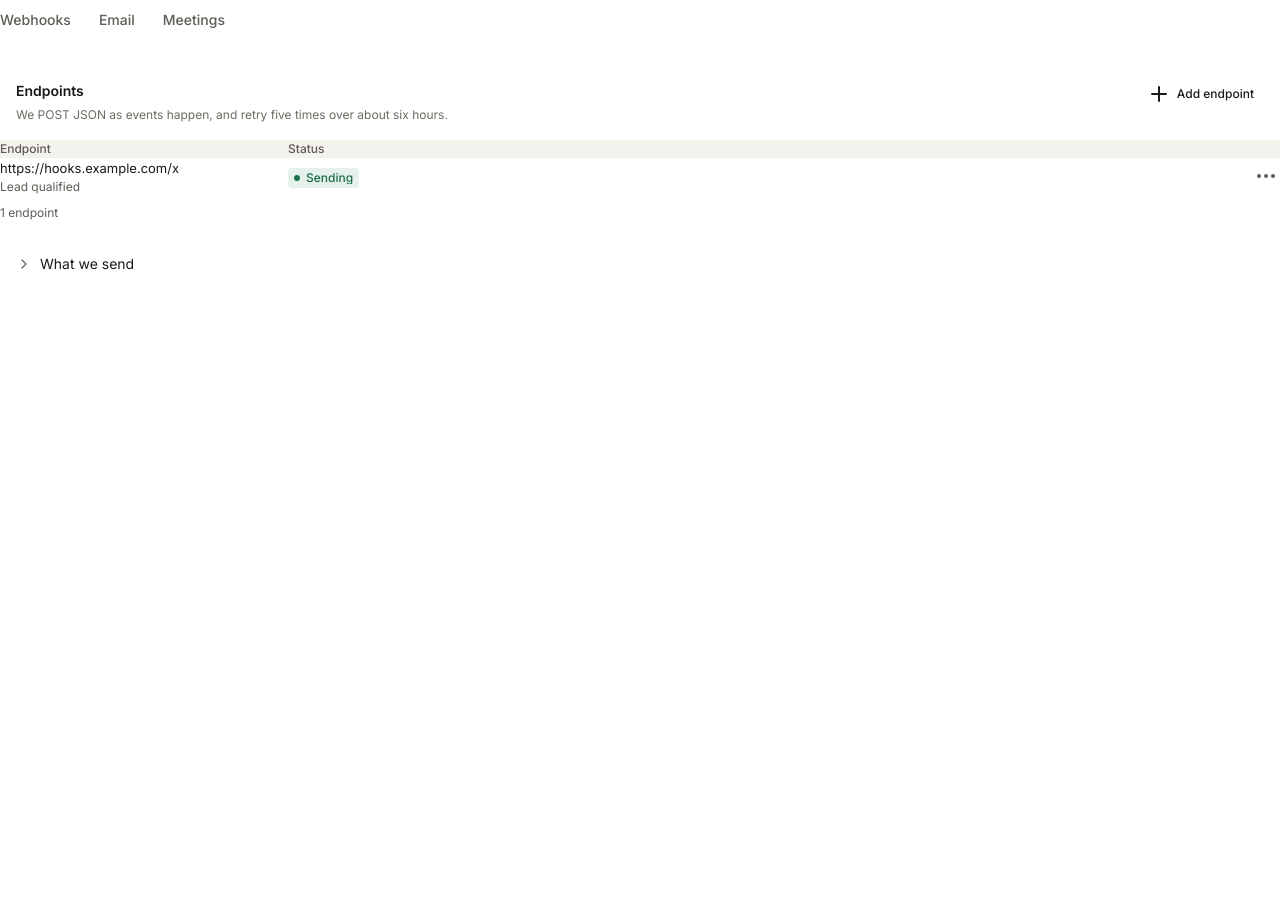
Test: IntegrationsPage — webhooks › will not register an endpoint we cannot reach
Expected: the text "https://hooks.example.com/x" is shown, [0, 160, 179, 176]
Click the button "Add endpoint" at (1200, 94), box [1137, 80, 1264, 108]
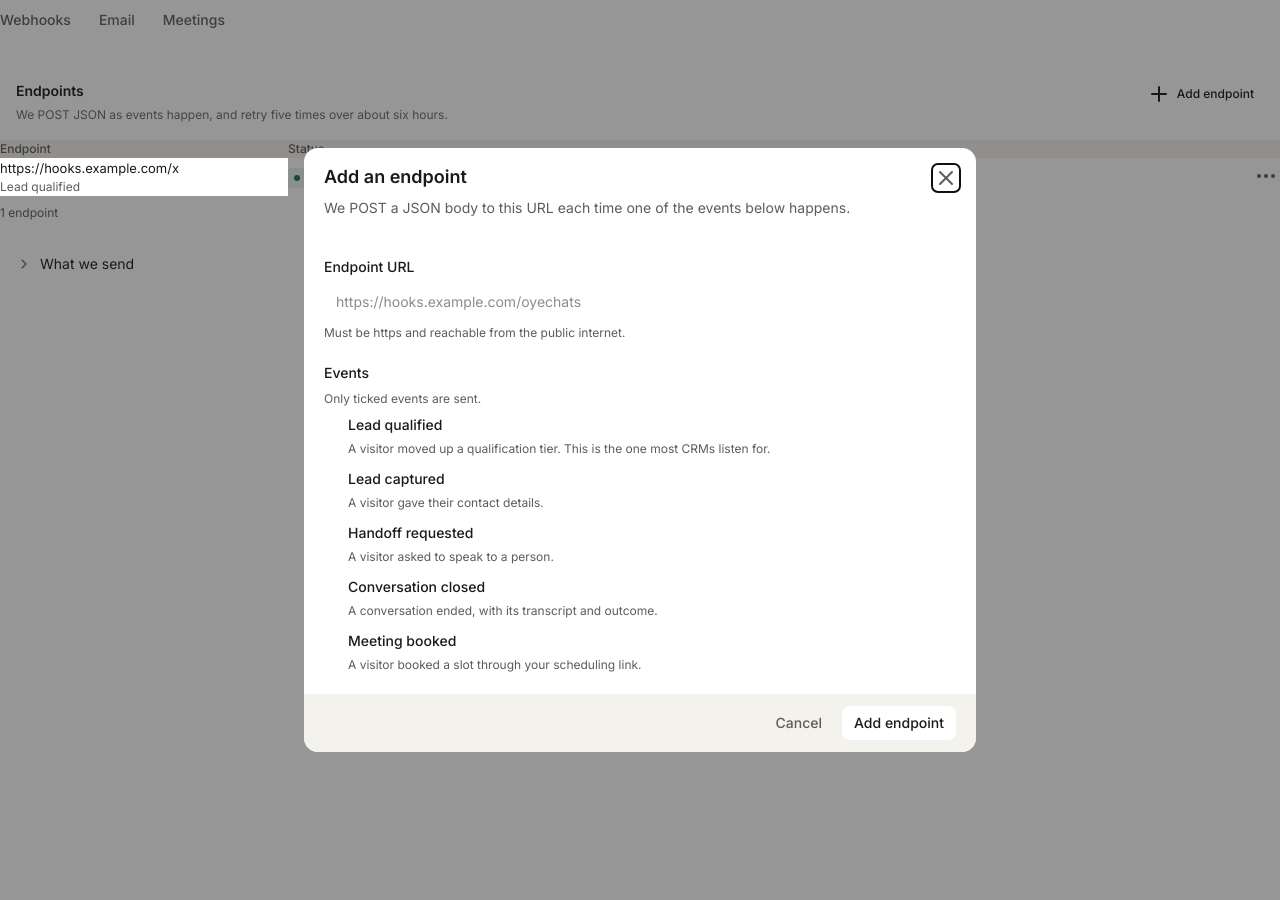
Click the field labelled "Endpoint URL" at (640, 301), box [324, 284, 956, 318]
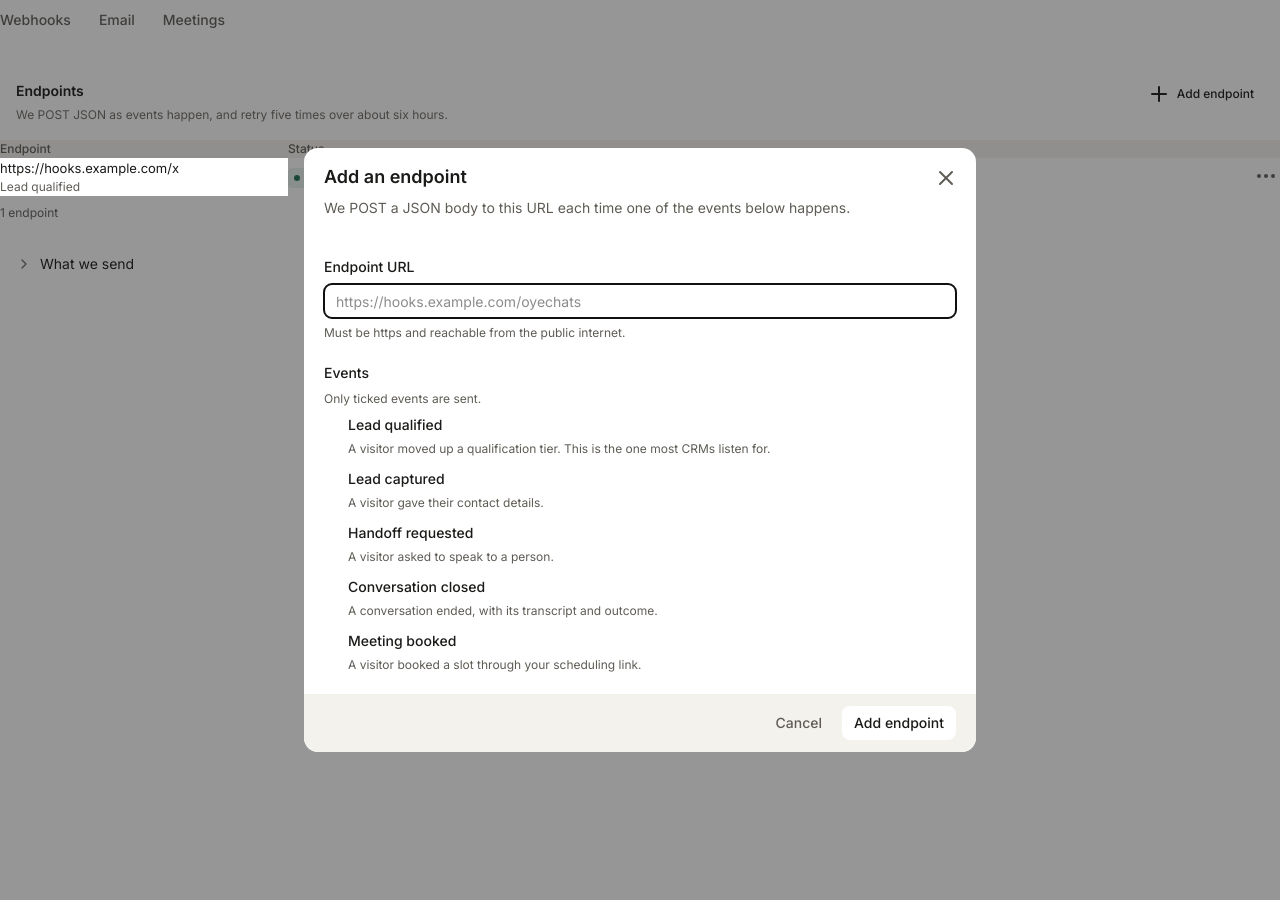
Type keys "https://localhost:3000/hook"
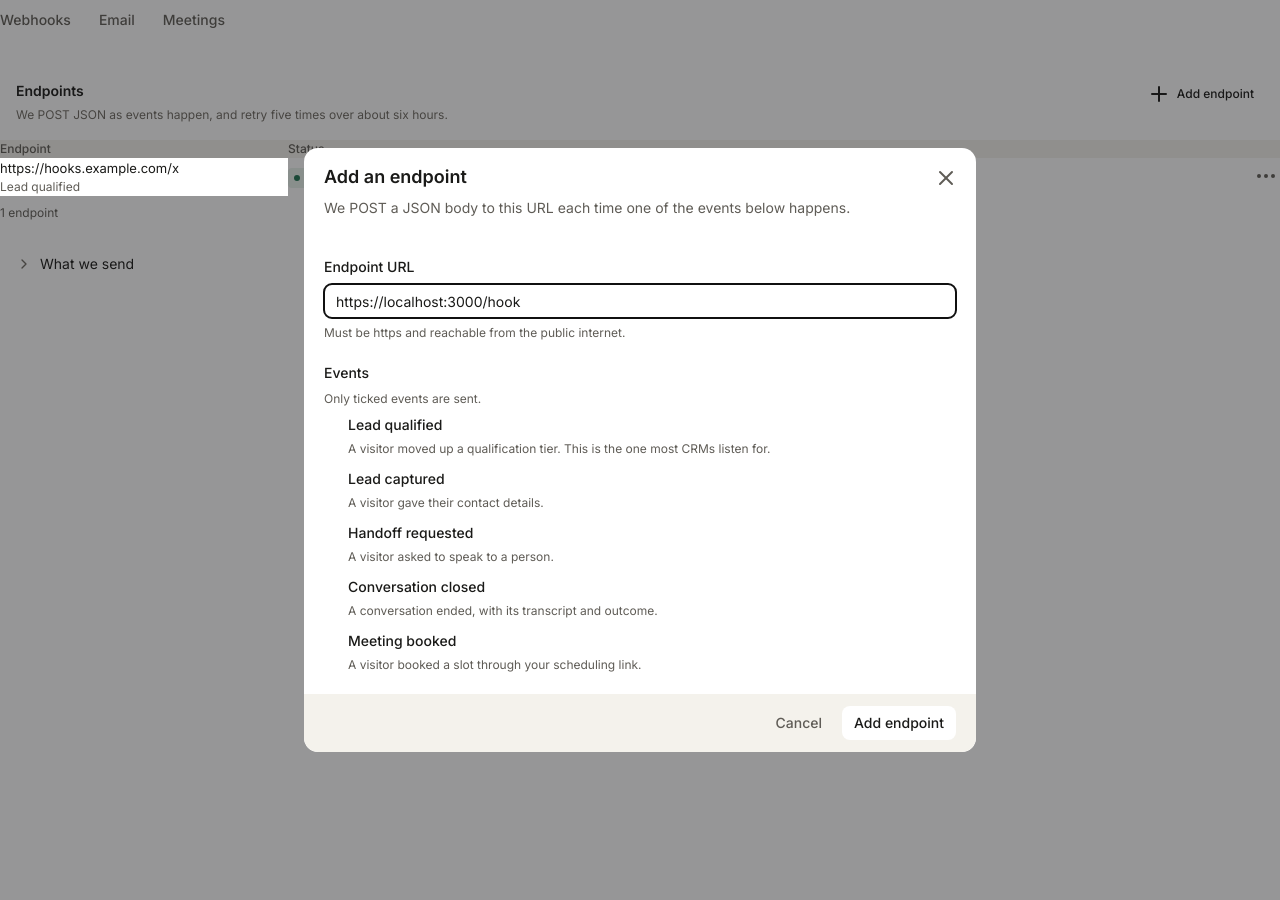
Click the button "Add endpoint" at (899, 723), box [842, 706, 956, 740]
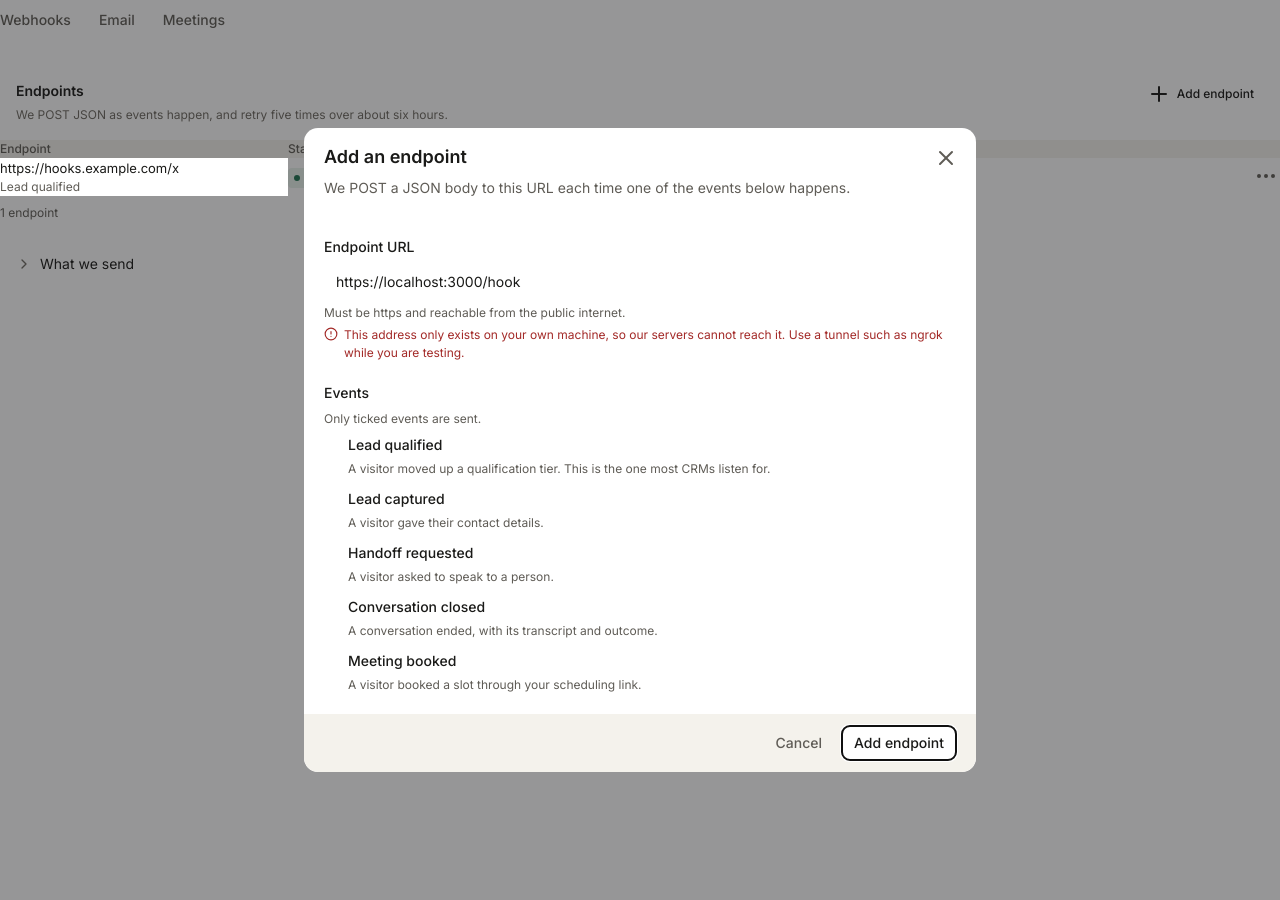
Expected: the text "only exists on your own machine" is shown, [344, 327, 943, 360]
